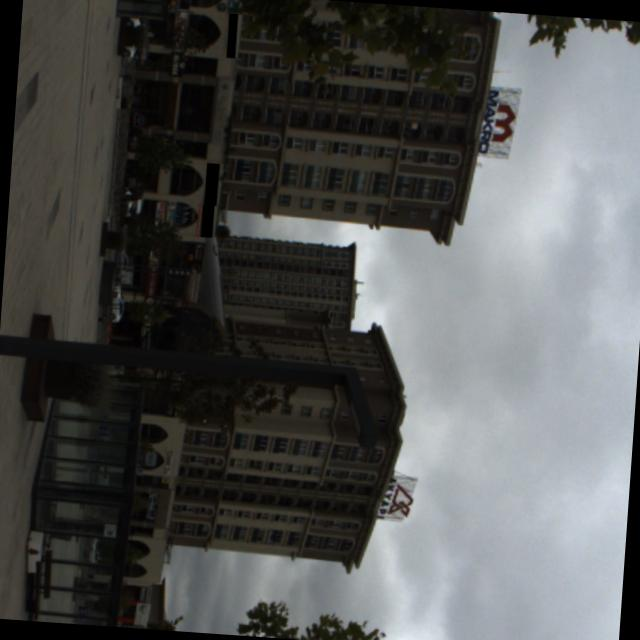SignStore: (203, 163, 218, 205), (225, 13, 237, 58), (199, 204, 212, 237)
